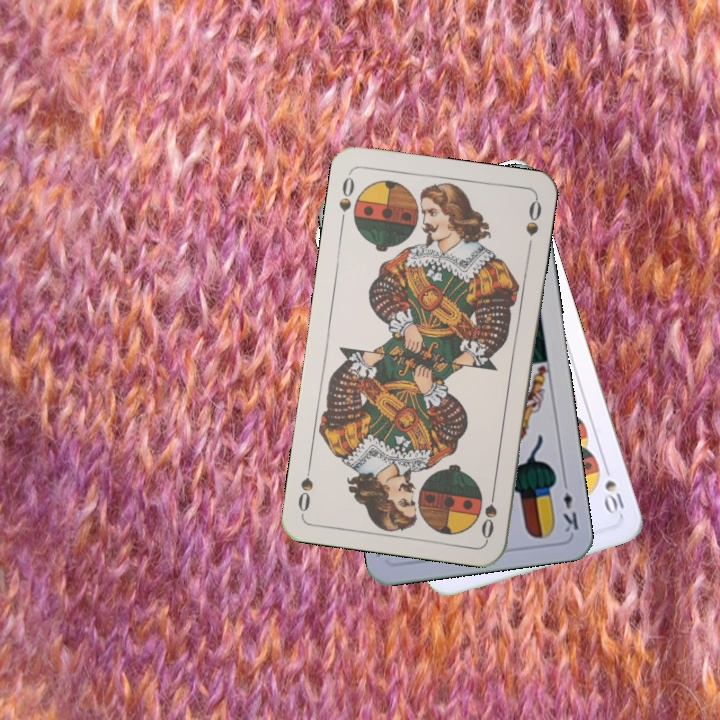EK: (558, 475, 581, 535)
S10: (599, 460, 628, 517)
SO: (477, 482, 499, 541), (335, 169, 357, 228)
